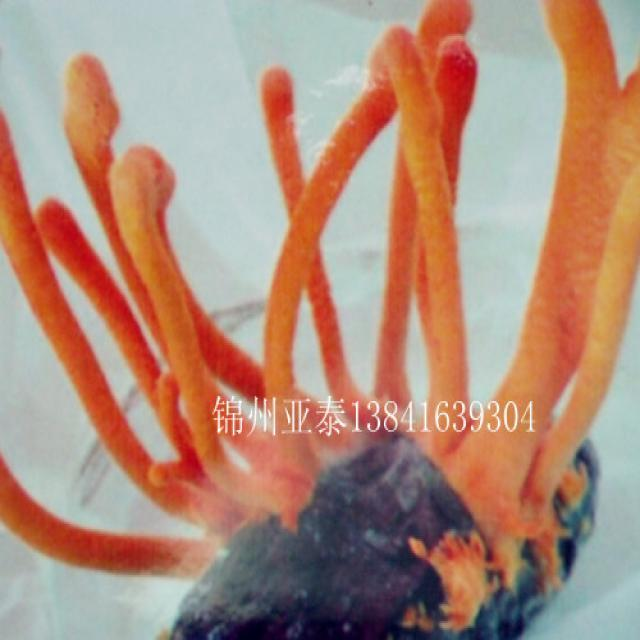Cordyceps militaris: (458, 4, 640, 566), (0, 111, 212, 576), (112, 147, 306, 523), (263, 69, 404, 435), (379, 23, 468, 451), (61, 54, 123, 177)
